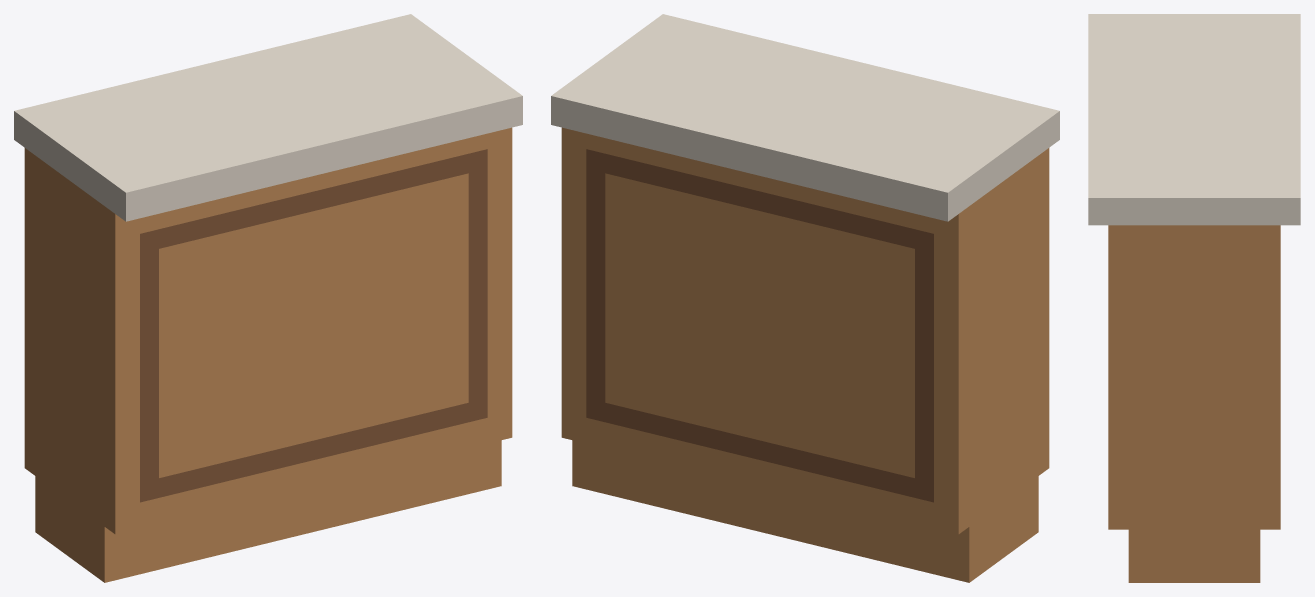
File: kitKitchenBar.glb
3 views of the same model, side by side, from view 1: azimuth 30°, elevation 25°; view 2: azimuth 150°, elevation 25°; view 3: azimuth 270°, elevation 25° (orthographic). The views are drawn at different scales.
Parts seen in each view (by area): view 1: kitKitchenBar_wood, kitKitchenBar_metal, kitKitchenBar_woodDark; view 2: kitKitchenBar_wood, kitKitchenBar_metal, kitKitchenBar_woodDark; view 3: kitKitchenBar_wood, kitKitchenBar_metal.
Part boxes in pixels (x1,y1,x2,y2): kitKitchenBar_wood: (24,127,512,582); kitKitchenBar_metal: (14,14,522,221); kitKitchenBar_woodDark: (140,149,487,502); kitKitchenBar_wood: (561,127,1049,582); kitKitchenBar_metal: (551,14,1059,221); kitKitchenBar_woodDark: (586,149,933,502); kitKitchenBar_wood: (1108,225,1280,582); kitKitchenBar_metal: (1088,14,1300,225).
Bounding box in the file's own units: 0.86 × 0.84 × 0.42.
